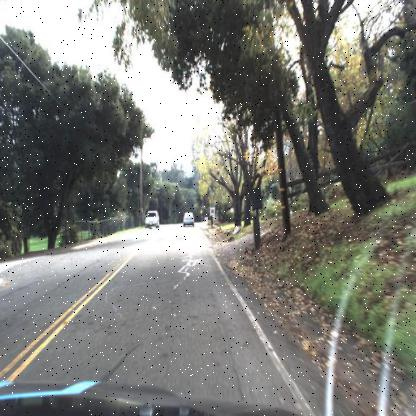car: (144, 208, 162, 232), (179, 206, 196, 230)
